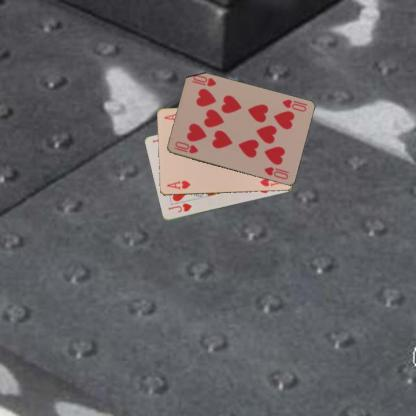10h: (279, 96, 307, 113), (171, 139, 199, 155)
Ah: (164, 178, 192, 191)
Jh: (165, 200, 193, 214)
